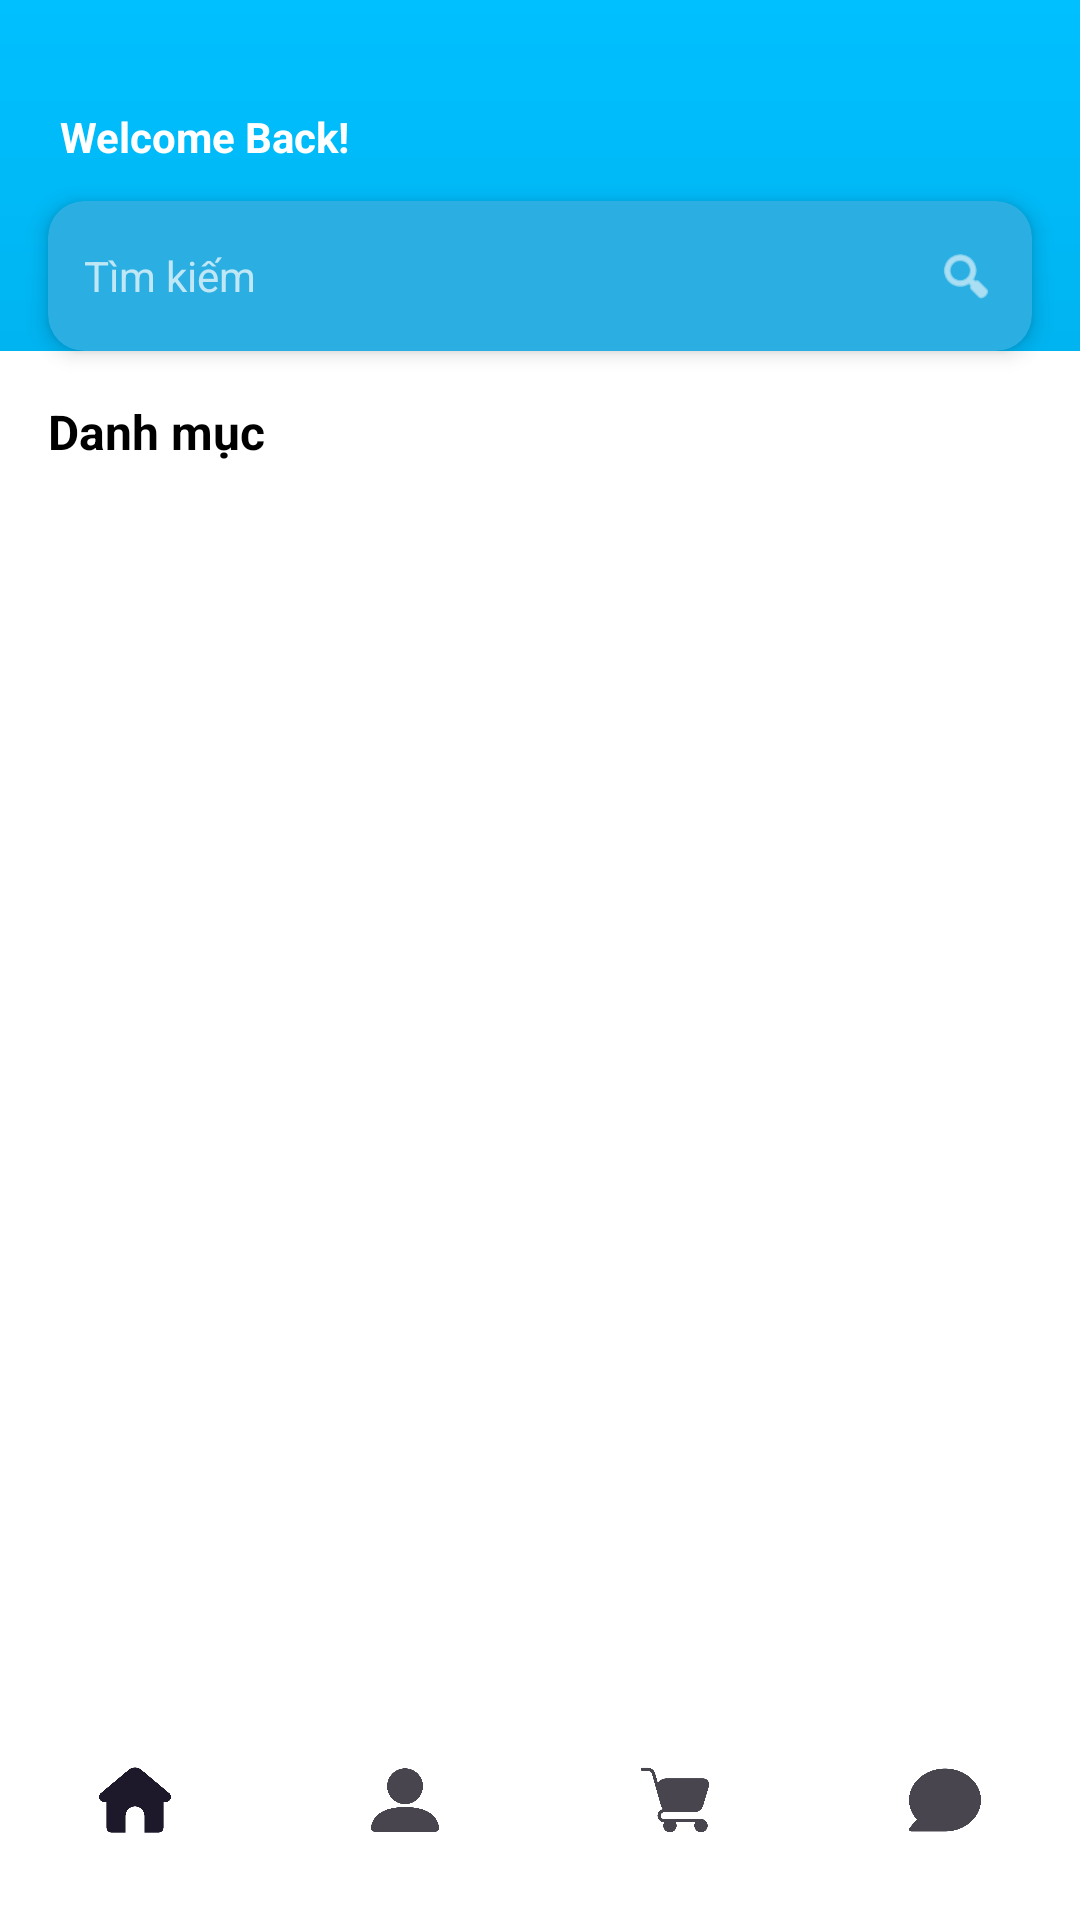

Named icons in this screenshot (1080x1920) and their bounding boxes, Rect(x1, y1, x2, y2):
search: Rect(944, 254, 988, 299)
